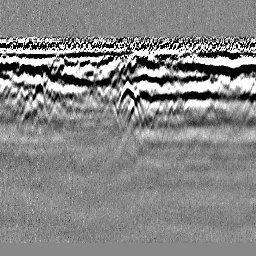cavity: (115, 81, 143, 121)
